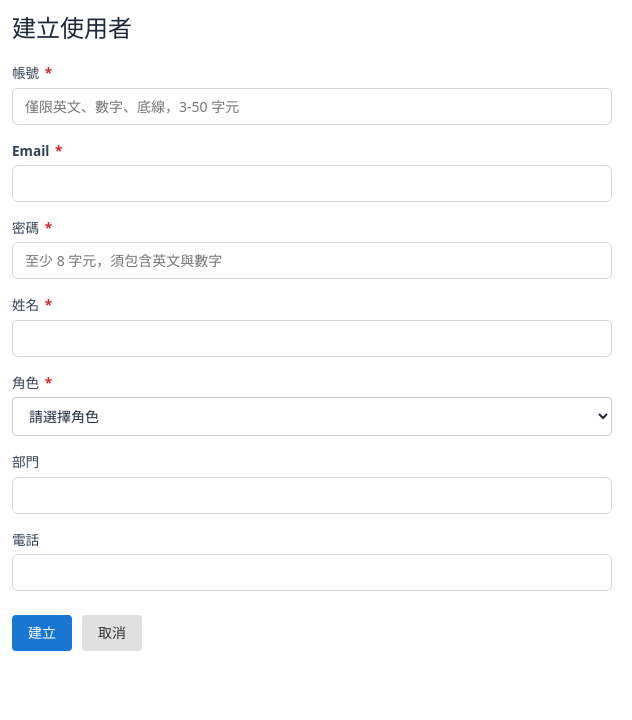
UserCreatePage › validates username length 3-50 and alphanumeric+underscore only
Type "ab" into the field labelled "帳號 *" at x=312, y=106, box [12,88,612,125]
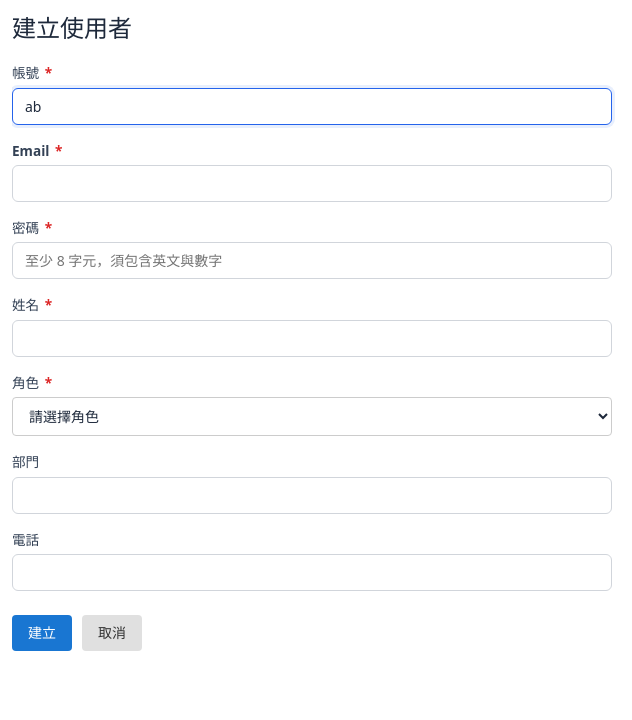
Type "a@t.com" into the field labelled "Email *" at x=312, y=184, box [12,165,612,202]
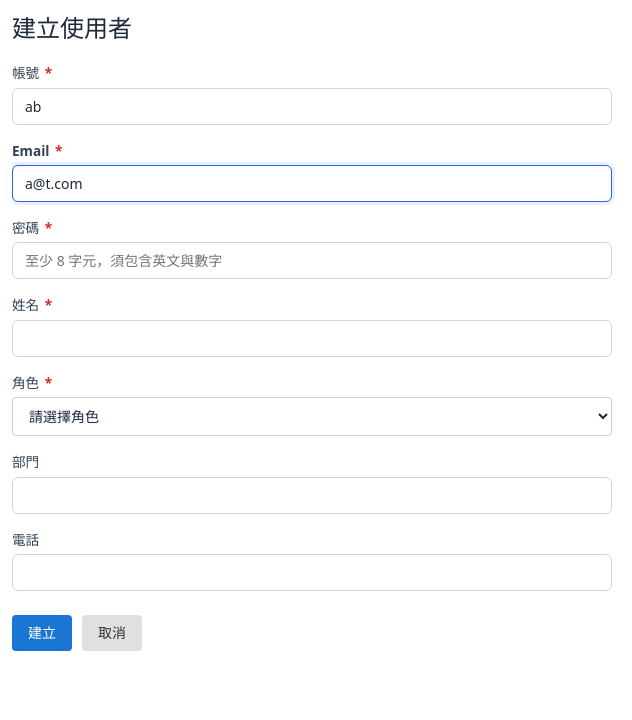
Type "password123" into the password field labelled "密碼 *" at x=312, y=261, box [12,242,612,279]
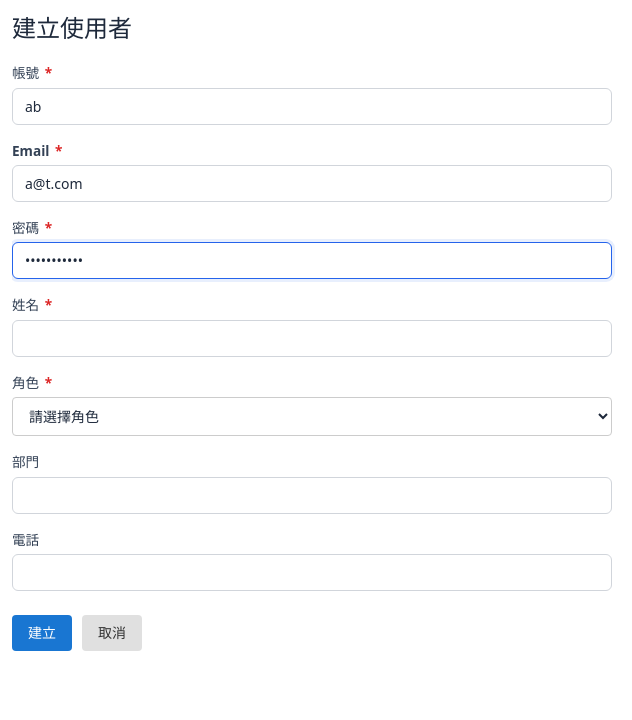
Type "Test" into the field labelled "姓名 *" at x=312, y=338, box [12,320,612,357]
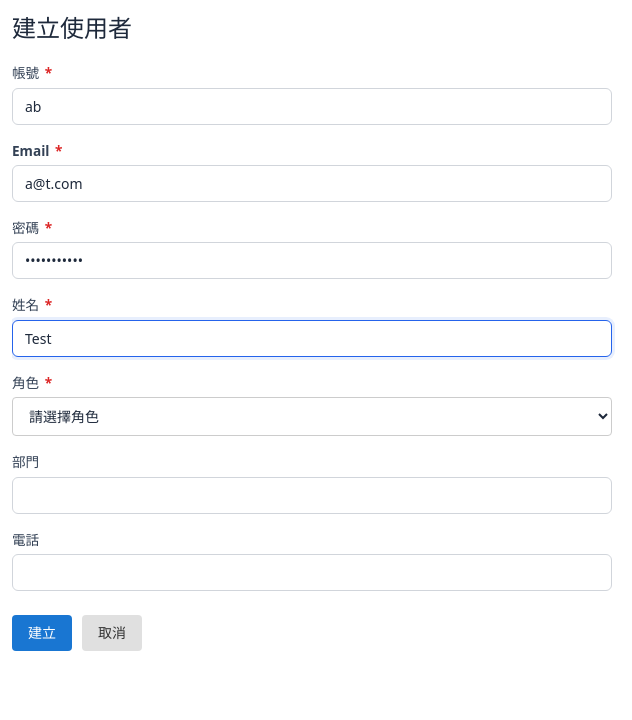
Select "Administrator" in the dropdown labelled "角色 *" at x=312, y=417, box [12,397,612,436]
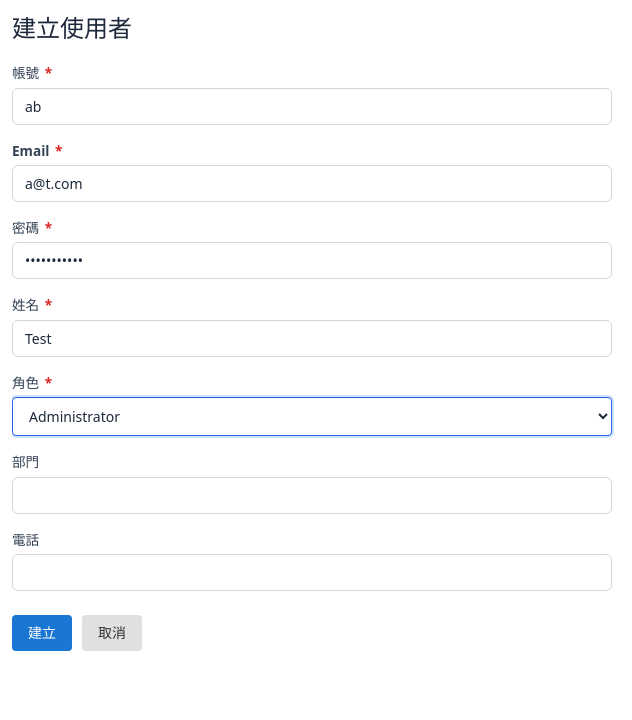
Click the button "建立" at x=42, y=633, box [12,615,72,650]
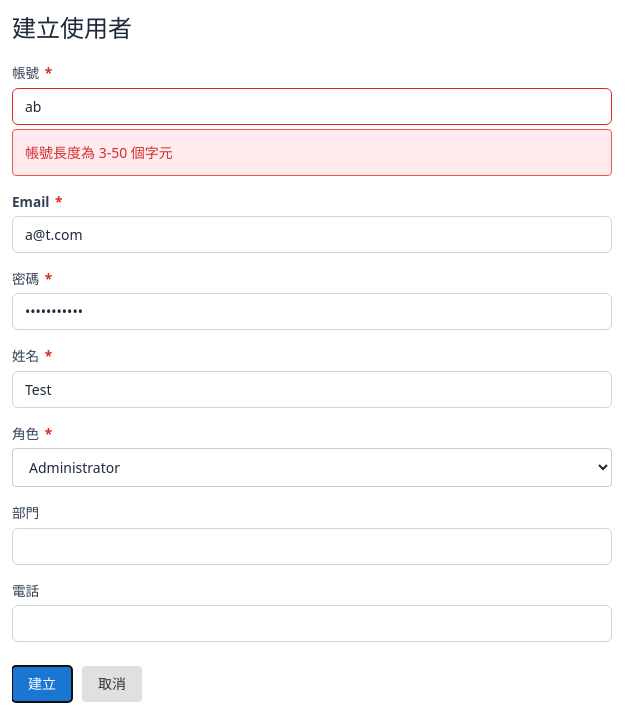
Check: the text "帳號長度為 3-50 個字元" is shown, box [12,129,612,176]
